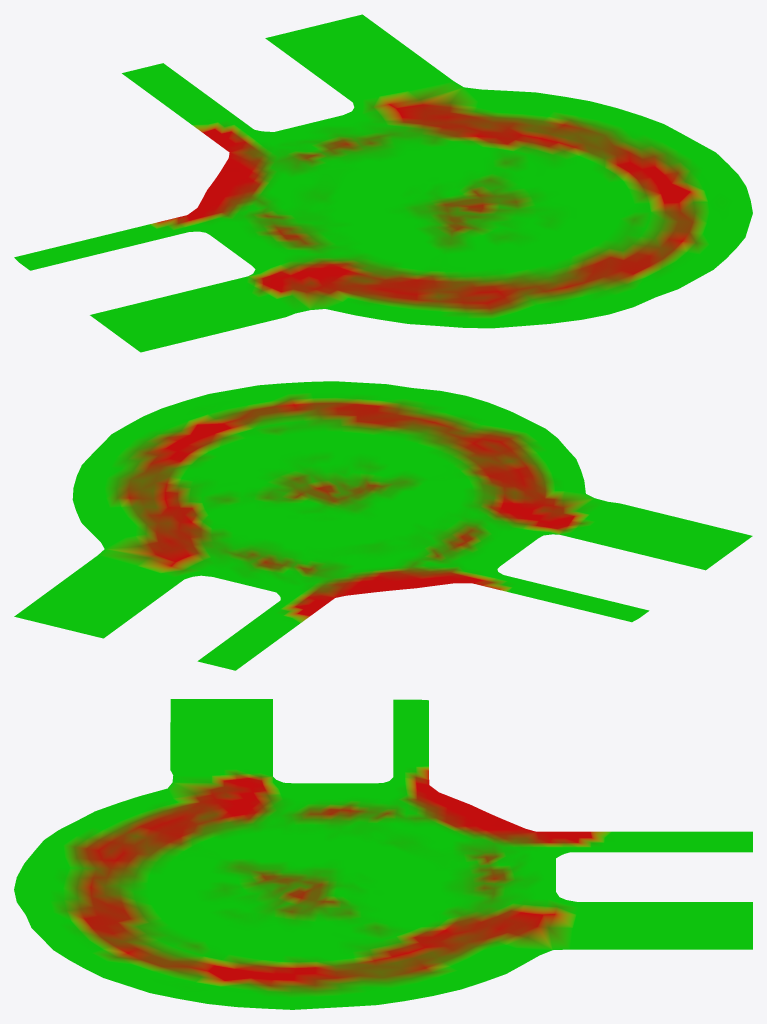
Rendered from pref_sm_garden_terrain_yellowgrass02c_lv3.fbx.
3 renders of one model, top to bottom at view 1: azimuth 30°, elevation 25°; view 2: azimuth 150°, elevation 25°; view 3: azimuth 270°, elevation 25°, orthographic. The views are drawn at different scales.
Parts seen in each view (by area): view 1: pref_sm_garden_terrain_yellowgrass02c_lv3; view 2: pref_sm_garden_terrain_yellowgrass02c_lv3; view 3: pref_sm_garden_terrain_yellowgrass02c_lv3.
Boxes of the visible parts, x1=… form: pref_sm_garden_terrain_yellowgrass02c_lv3: x1=14, y1=14, x2=752, y2=352; pref_sm_garden_terrain_yellowgrass02c_lv3: x1=14, y1=381, x2=752, y2=670; pref_sm_garden_terrain_yellowgrass02c_lv3: x1=14, y1=699, x2=752, y2=1009.
Bounding box in the file's own units: 50.87 × 0.000495 × 51.1.
